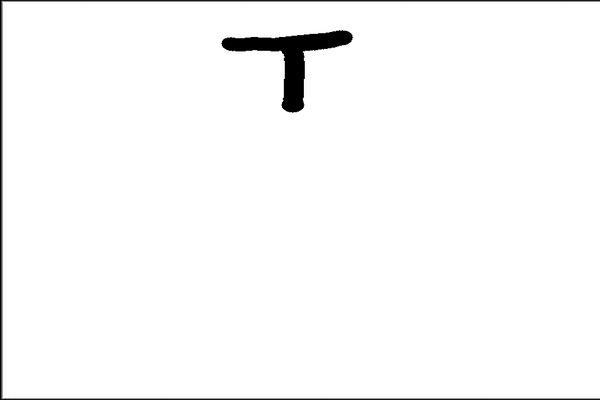T: (212, 24, 362, 117)
